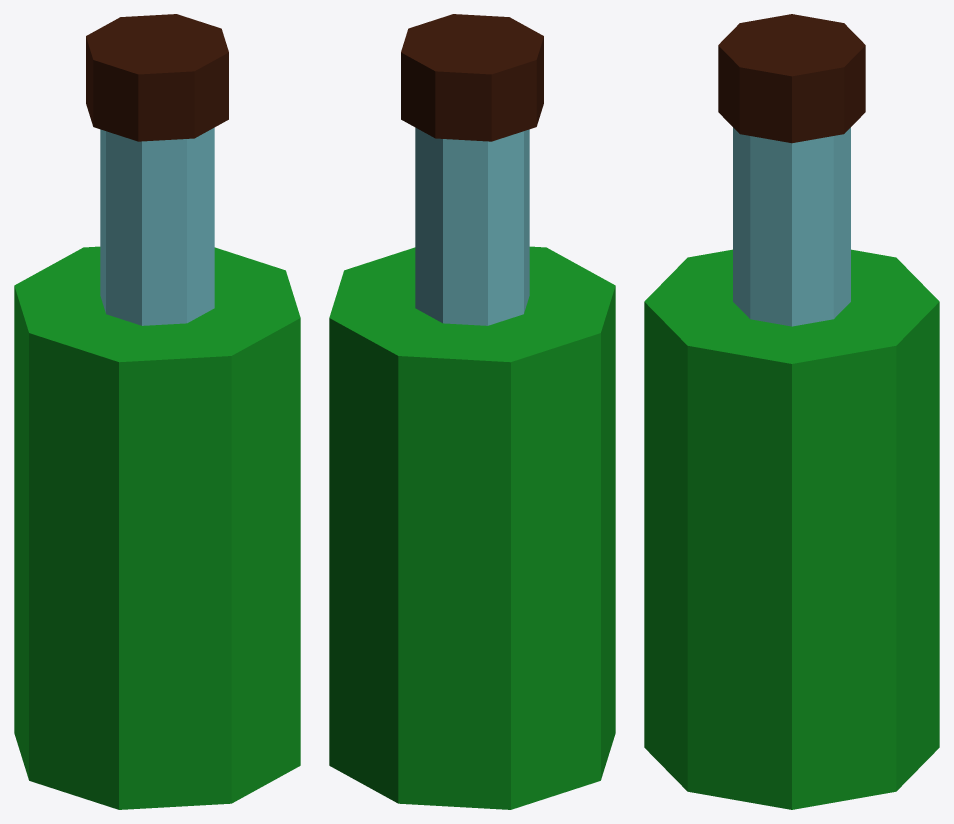
File: potion_green.obj
3 views of the same model, side by side, from view 1: azimuth 30°, elevation 25°; view 2: azimuth 150°, elevation 25°; view 3: azimuth 270°, elevation 25° (orthographic).
Visible parts, largest first — view 1: potion_green; view 2: potion_green; view 3: potion_green.
Boxes of the visible parts, bbox=[...] form: potion_green: bbox=[14, 14, 300, 809]; potion_green: bbox=[329, 14, 615, 809]; potion_green: bbox=[644, 14, 939, 809].
Bounding box in the file's own units: 0.24 × 0.63 × 0.24.
